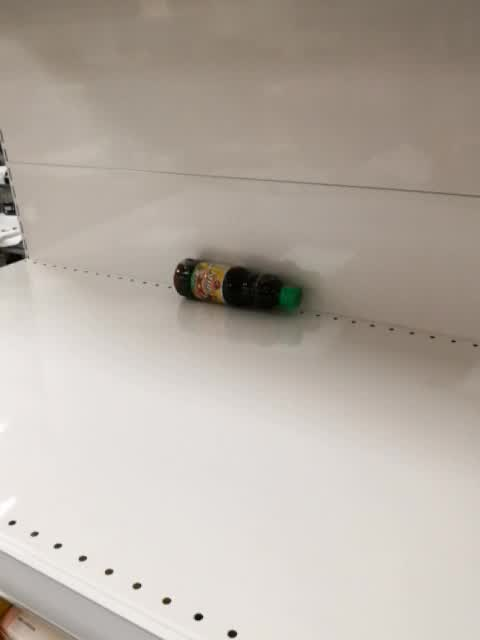cookingoil: (171, 256, 305, 314)
